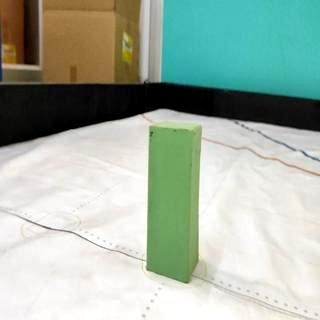greenbox: (144, 120, 202, 282)
